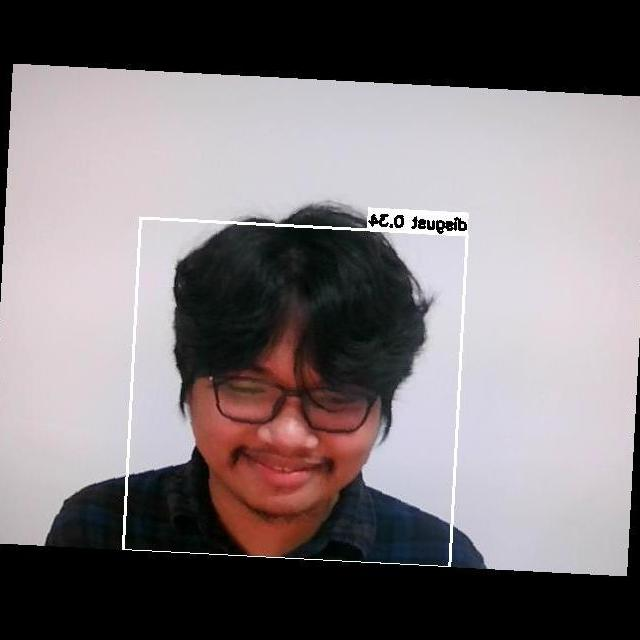Happy: (189, 325, 375, 508)
